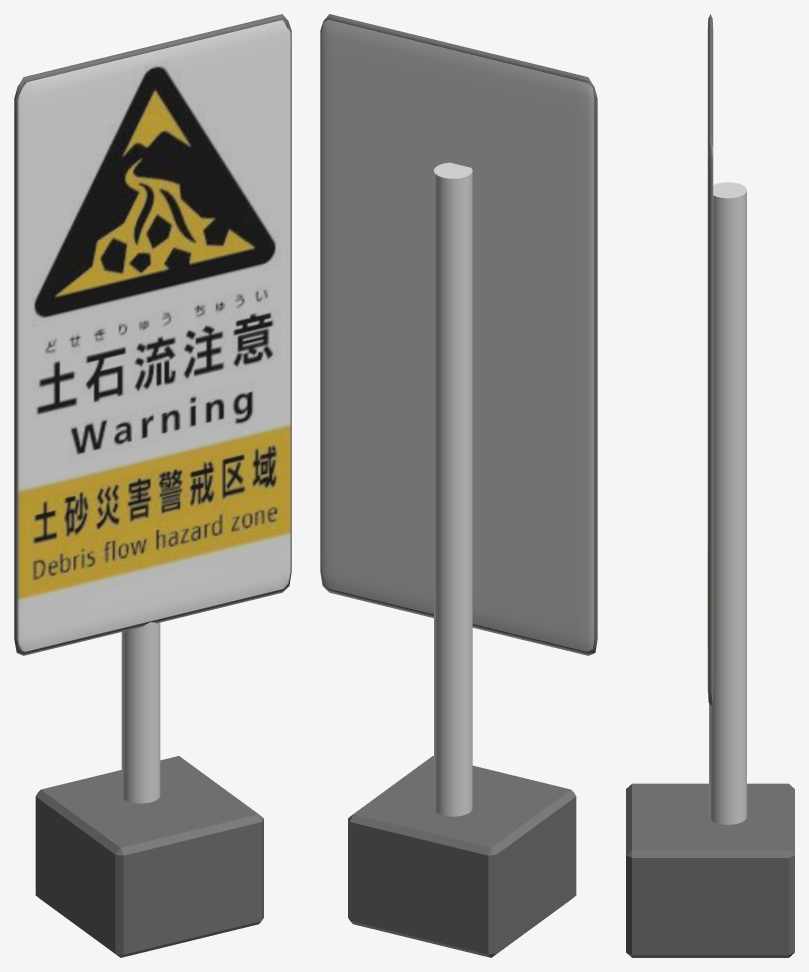
File: Doseki.fbx
3 renders of one model, left to right at view 1: azimuth 30°, elevation 25°; view 2: azimuth 150°, elevation 25°; view 3: azimuth 270°, elevation 25°, orthographic.
Visible parts, largest first — view 1: Dosekiryu1; view 2: Dosekiryu1; view 3: Dosekiryu1.
Boxes of the visible parts, x1,y1,x2,y2 form: Dosekiryu1: (14, 14, 291, 957); Dosekiryu1: (320, 14, 597, 957); Dosekiryu1: (626, 14, 794, 957).
Size of the model in its own units: 0.4293 by 1.28 by 0.2302.
Materials: 3 (1 with a texture image).
